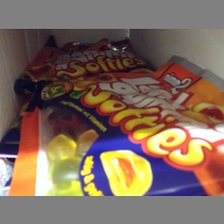candy: (20, 76, 223, 194)
